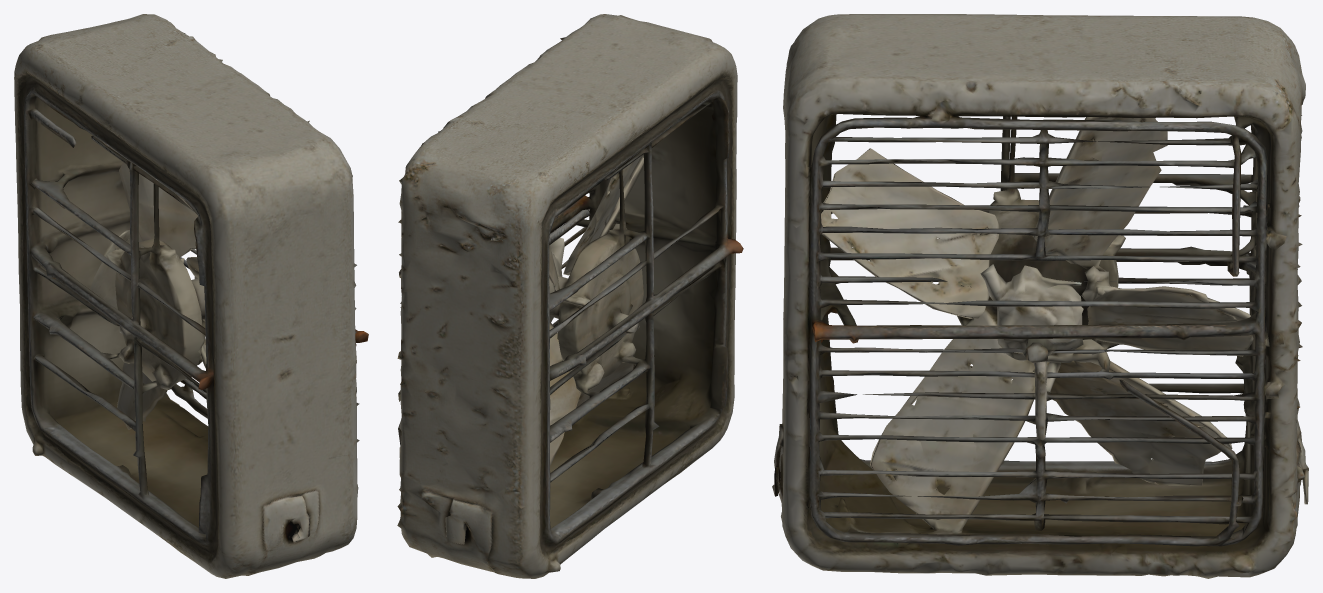
3 renders of one model, left to right at view 1: azimuth 30°, elevation 25°; view 2: azimuth 150°, elevation 25°; view 3: azimuth 270°, elevation 25°, orthographic. The views are drawn at different scales.
Parts seen in each view (by area): view 1: tripo_node_6e45bc5e-733b-4e86-b78c-5035552df9a6; view 2: tripo_node_6e45bc5e-733b-4e86-b78c-5035552df9a6; view 3: tripo_node_6e45bc5e-733b-4e86-b78c-5035552df9a6.
Boxes of the visible parts, x1,y1,x2,y2 form: tripo_node_6e45bc5e-733b-4e86-b78c-5035552df9a6: [14, 14, 368, 578]; tripo_node_6e45bc5e-733b-4e86-b78c-5035552df9a6: [397, 14, 743, 578]; tripo_node_6e45bc5e-733b-4e86-b78c-5035552df9a6: [772, 14, 1308, 578].
Size of the model in its own units: 0.4285 by 1 by 0.9636.
Materials: 1 (1 with a texture image).
